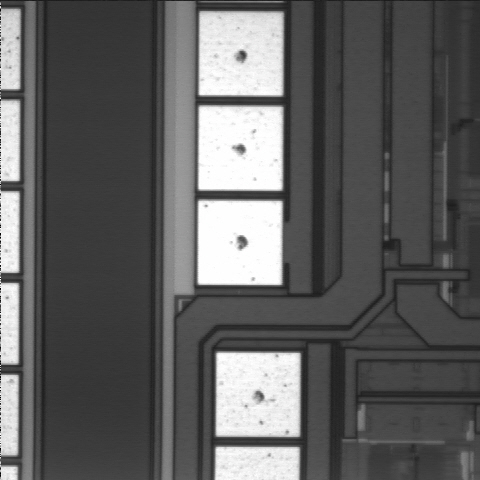pad: (198, 106, 283, 191), (199, 11, 283, 96), (198, 200, 282, 285), (216, 352, 300, 437)
